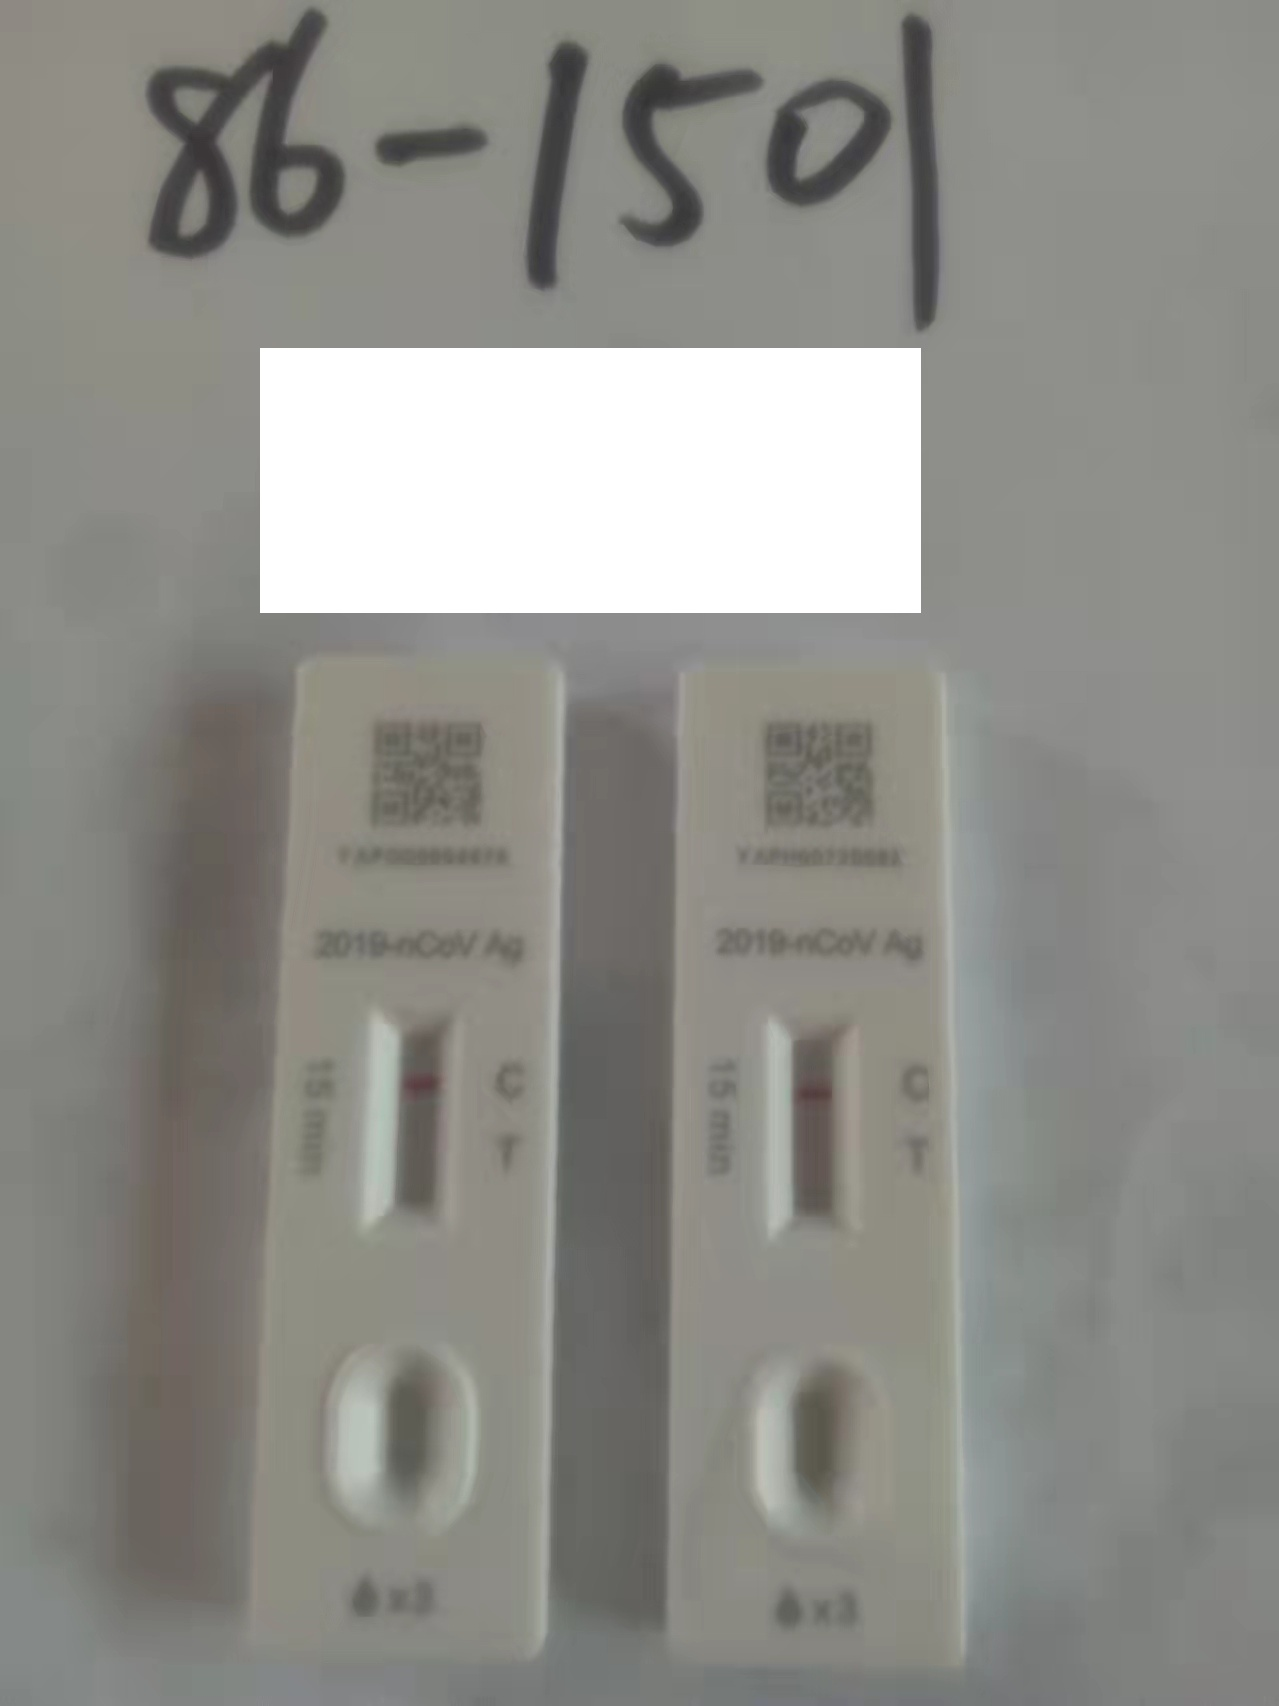negative: (773, 1016, 867, 1247), (356, 1007, 443, 1234)
